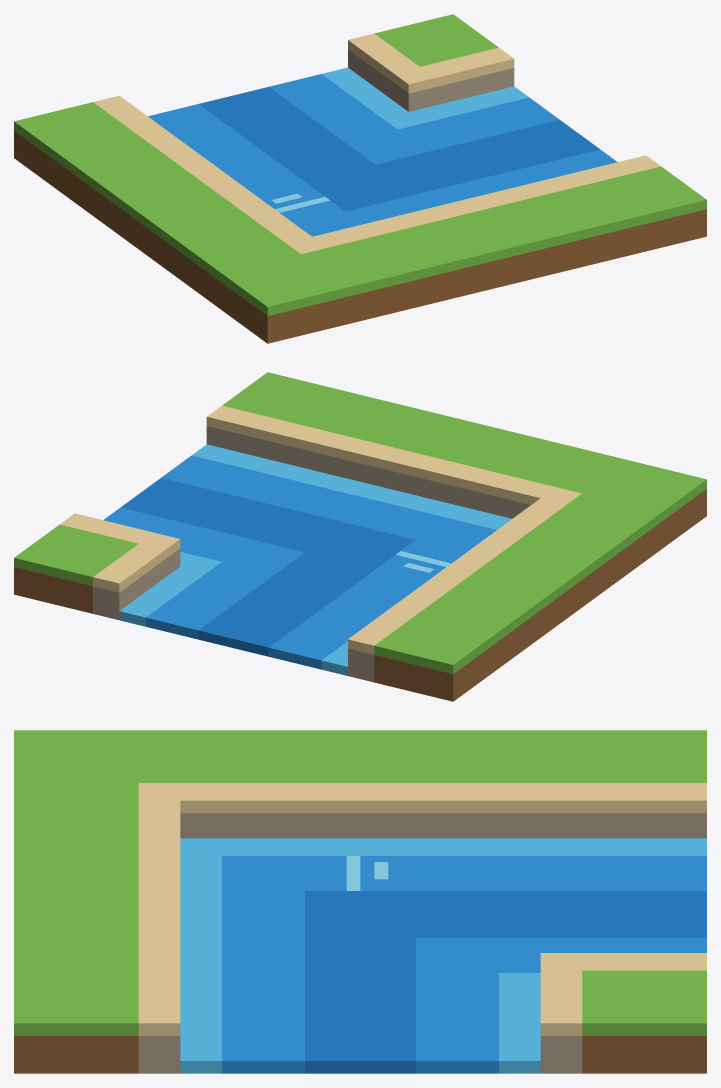
The model's file is river_corner.glb.
3 renders of one model, top to bottom at view 1: azimuth 30°, elevation 25°; view 2: azimuth 150°, elevation 25°; view 3: azimuth 270°, elevation 25°, orthographic. The views are drawn at different scales.
Visible parts, largest first — view 1: model_0; view 2: model_0; view 3: model_0.
Part boxes in pixels (bbox=[...]): model_0: bbox=[14, 14, 706, 343]; model_0: bbox=[14, 372, 706, 701]; model_0: bbox=[14, 730, 706, 1073].
Size of the model in its own units: 2 by 0.16 by 2.
